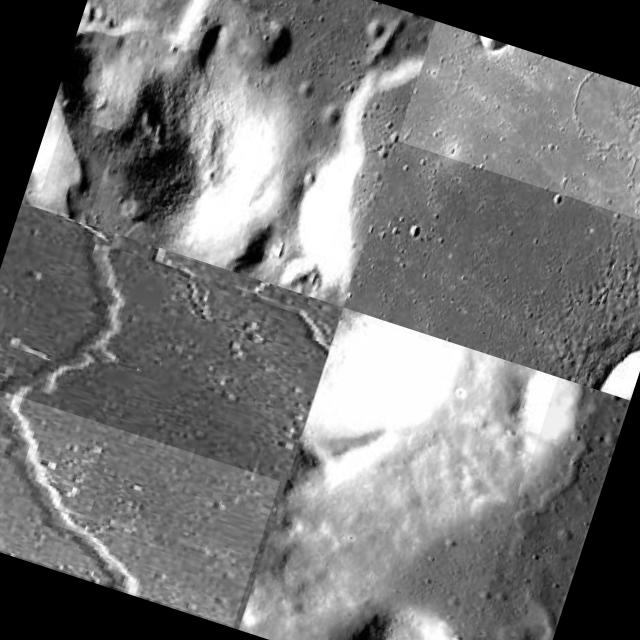rille: (0, 208, 337, 626), (0, 202, 342, 483), (397, 21, 640, 234), (469, 376, 629, 640), (37, 116, 117, 222)
